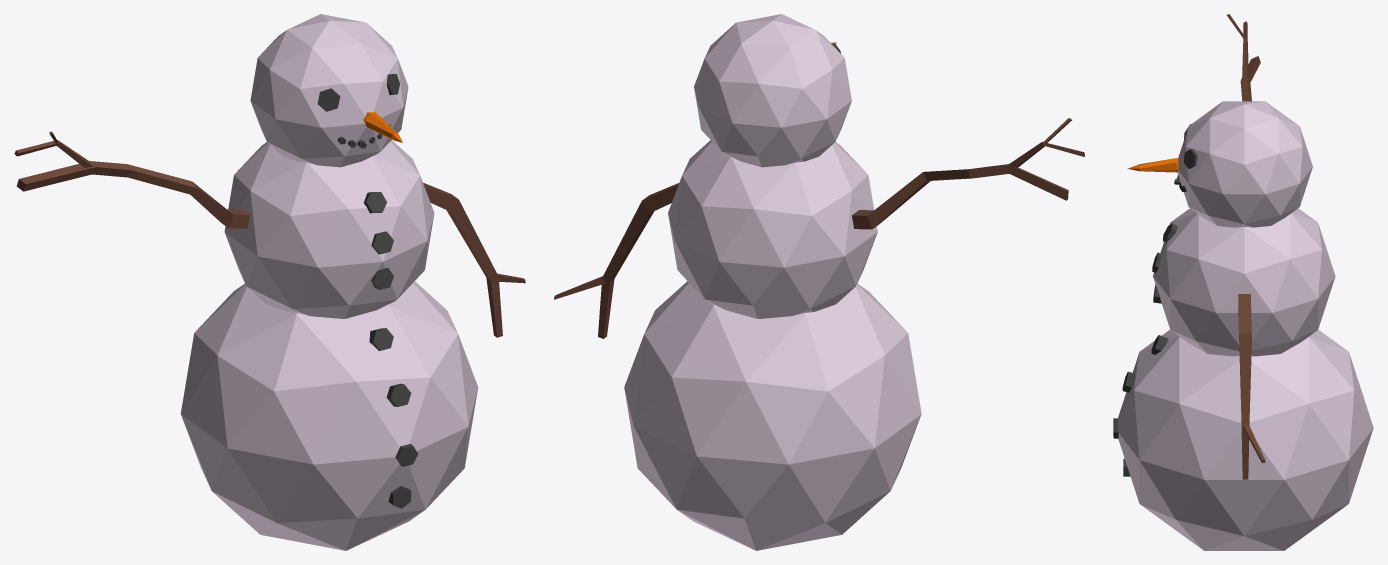
File: Snowman.fbx
The picture shows the model from 3 angles, left to right: view 1: azimuth 30°, elevation 25°; view 2: azimuth 150°, elevation 25°; view 3: azimuth 270°, elevation 25°; orthographic projection. The views are drawn at different scales.
Parts seen in each view (by area): view 1: Snowman; view 2: Snowman; view 3: Snowman.
Boxes of the visible parts, x1,y1,x2,y2 form: Snowman: (14,14,525,550); Snowman: (554,14,1084,550); Snowman: (1113,14,1373,550).
Size of the model in its own units: 2.5 by 2.38 by 1.27.
